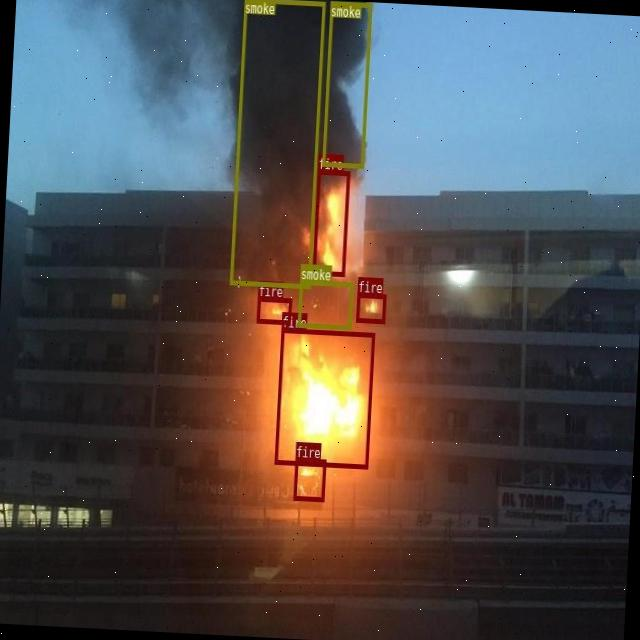fire: (274, 328, 374, 469), (312, 168, 350, 276), (292, 458, 326, 502), (256, 296, 292, 324), (356, 292, 385, 322)
smoke: (229, 0, 325, 288), (321, 1, 372, 168), (298, 279, 353, 329)
